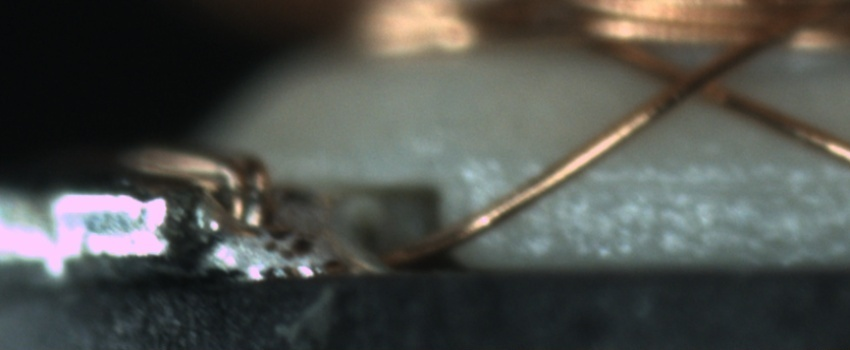CL: (654, 56, 740, 110)
DL: (483, 148, 849, 212)
TE: (108, 144, 278, 239)
